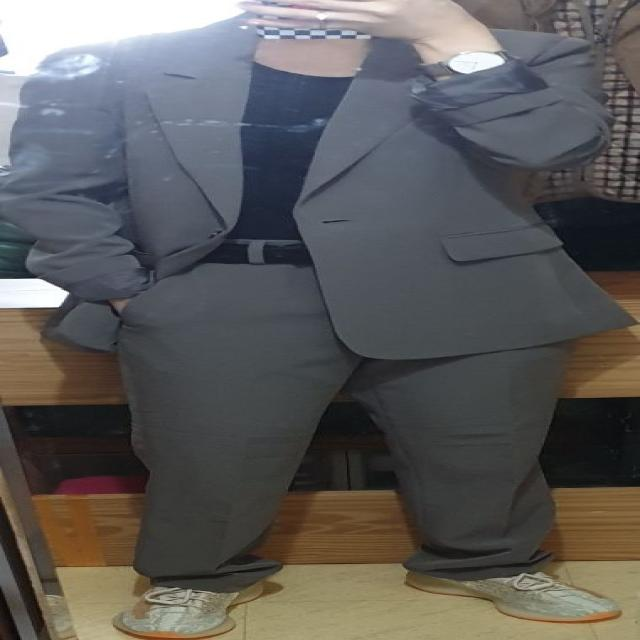blazer: (0, 11, 640, 358)
slacks: (97, 227, 568, 580)
